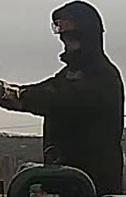gloves: (0, 79, 27, 106)
helmet: (49, 13, 83, 39)
vest: (40, 57, 124, 171)
